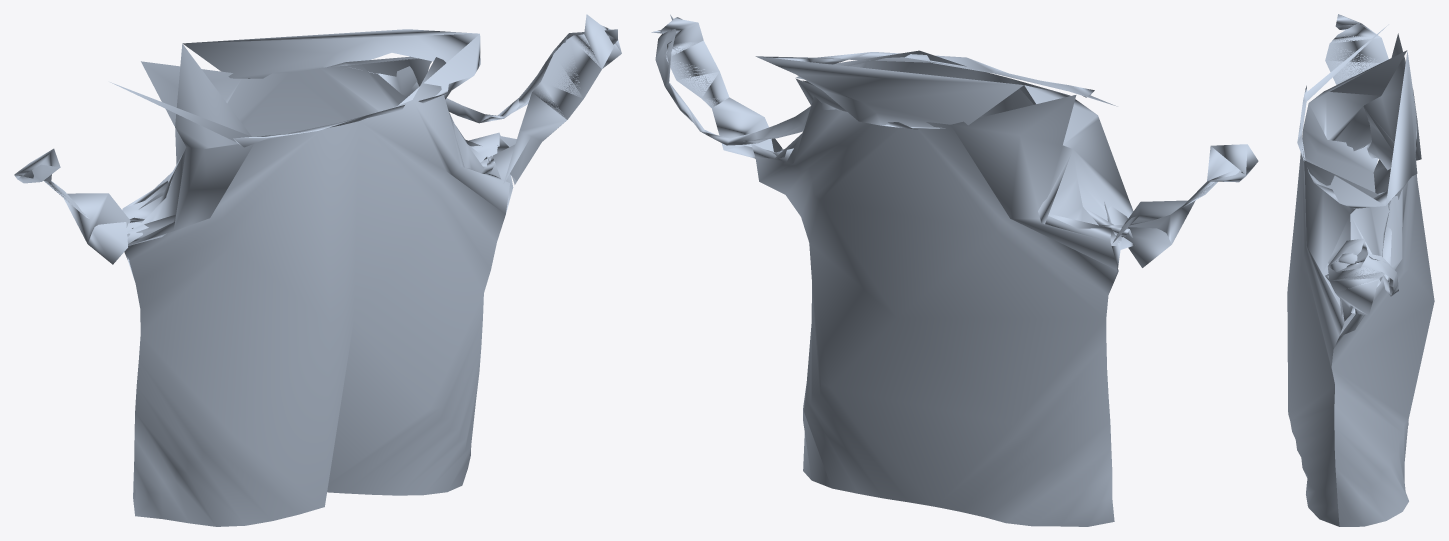
File: frame_021.glb
3 renders of one model, left to right at view 1: azimuth 30°, elevation 25°; view 2: azimuth 150°, elevation 25°; view 3: azimuth 270°, elevation 25°, orthographic. The views are drawn at different scales.
Visible parts, largest first — view 1: panel.front, panel.neck_band, panel.back, panel.sleeve.right, panel.sleeve.left; view 2: panel.back, panel.neck_band, panel.front, panel.sleeve.right, panel.sleeve.left; view 3: panel.back, panel.front, panel.neck_band, panel.sleeve.right, panel.sleeve.left.
Boxes of the visible parts, <box> form: panel.front: <box>124,44,509,526</box>; panel.neck_band: <box>110,29,617,147</box>; panel.back: <box>122,58,513,513</box>; panel.sleeve.right: <box>492,14,621,184</box>; panel.sleeve.left: <box>14,148,131,264</box>; panel.back: <box>751,80,1123,526</box>; panel.neck_band: <box>655,14,1117,145</box>; panel.front: <box>781,50,1135,288</box>; panel.sleeve.right: <box>651,17,782,158</box>; panel.sleeve.left: <box>1113,144,1258,267</box>; panel.back: <box>1331,33,1434,526</box>; panel.front: <box>1287,50,1406,526</box>; panel.neck_band: <box>1297,24,1417,296</box>; panel.sleeve.right: <box>1327,238,1386,321</box>; panel.sleeve.left: <box>1325,14,1388,84</box>.
Size of the model in its own units: 1.07 by 0.7811 by 0.2745.
